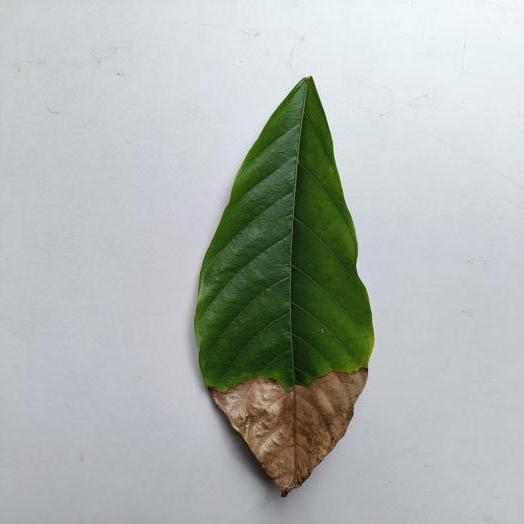Potassium: (194, 77, 373, 494)
